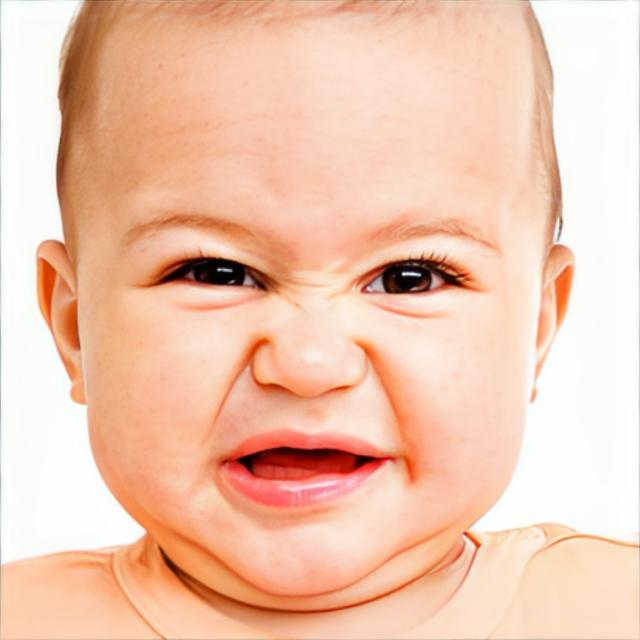disgust: (75, 0, 543, 599)
